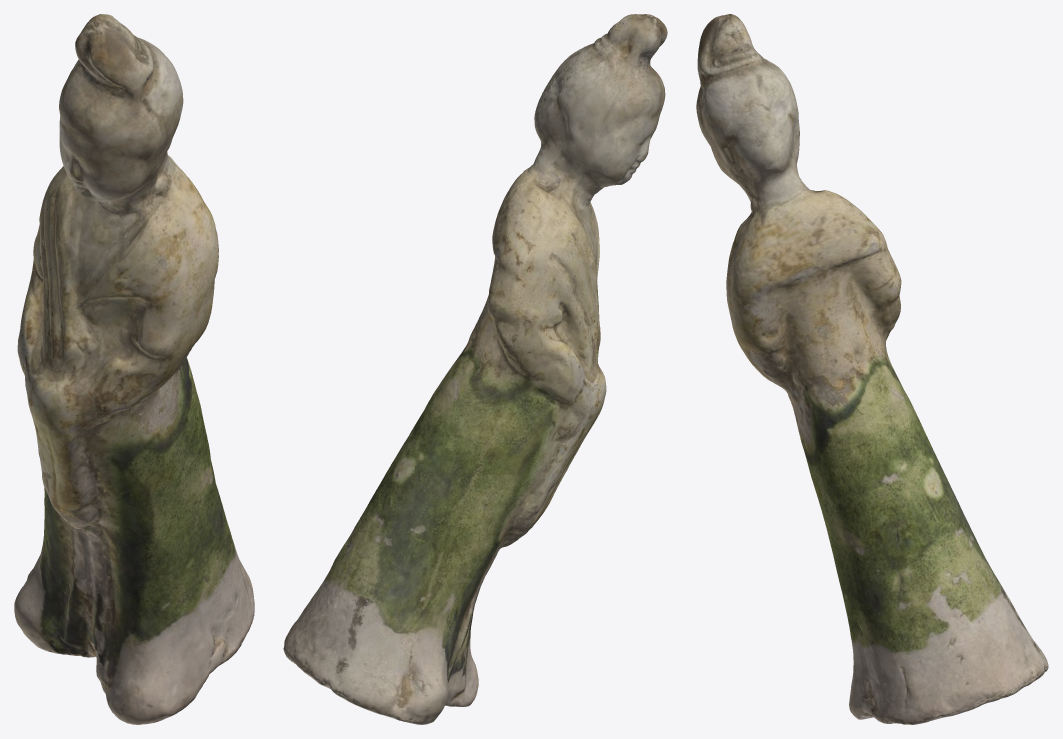
3 views of the same model, side by side, from view 1: azimuth 30°, elevation 25°; view 2: azimuth 150°, elevation 25°; view 3: azimuth 270°, elevation 25° (orthographic). The views are drawn at different scales.
Parts seen in each view (by area): view 1: Object_2; view 2: Object_2; view 3: Object_2.
Boxes of the visible parts, x1,y1,x2,y2 form: Object_2: (14, 14, 254, 724); Object_2: (283, 14, 667, 724); Object_2: (696, 14, 1048, 724).
Bounding box in the file's own units: 1.16 × 2.9 × 1.43.
Materials: 1 (1 with a texture image).
